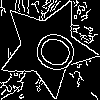O: (22, 22, 81, 78)
